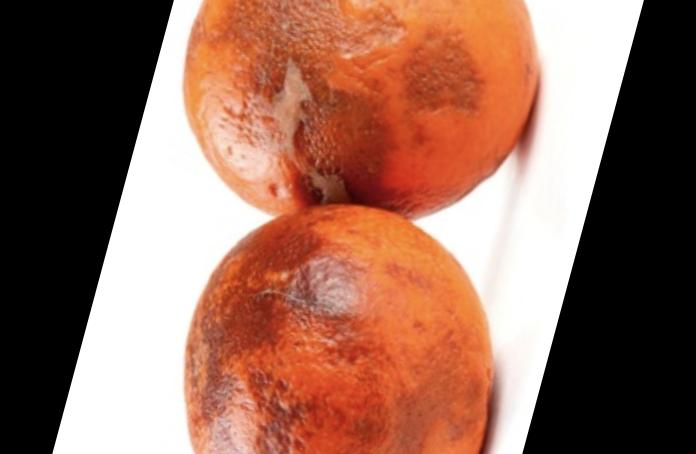Orange Rotten: (141, 198, 515, 454), (185, 0, 569, 224), (136, 273, 168, 279)
